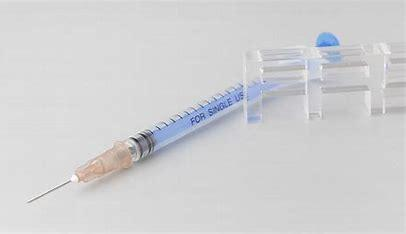Syringe: (20, 97, 222, 208)
